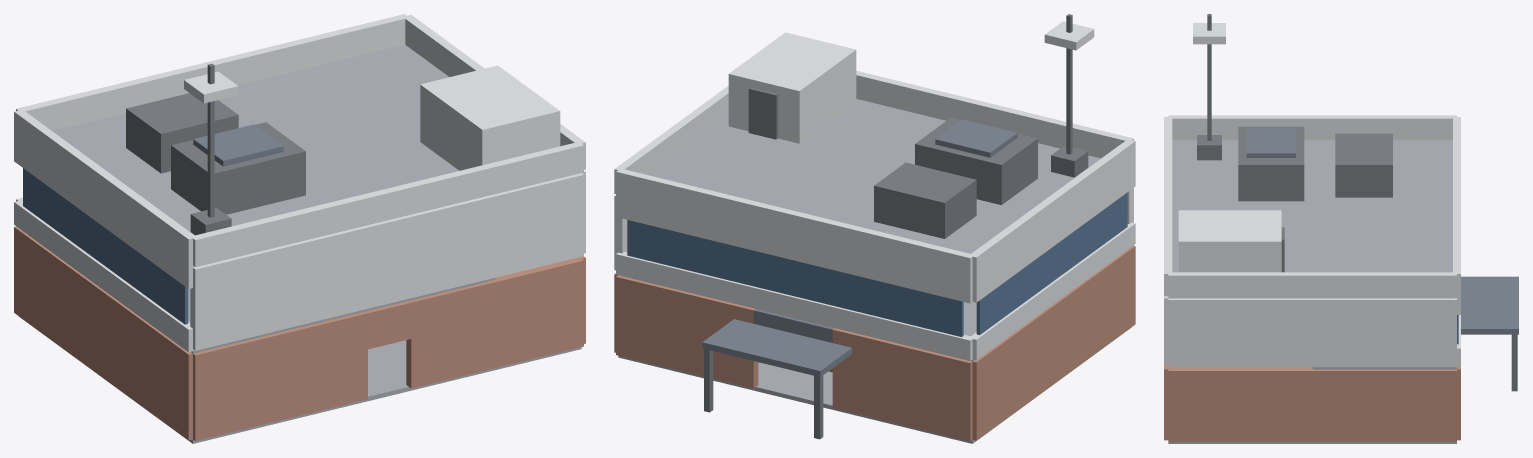
File: harbor_office_building.glb
3 views of the same model, side by side, from view 1: azimuth 30°, elevation 25°; view 2: azimuth 150°, elevation 25°; view 3: azimuth 270°, elevation 25° (orthographic). The views are drawn at different scales.
Visible parts, largest first — view 1: Off_2F_Rear_Wall, Off_Roof_Slab, Off_GF_Wall_Rear_R, Off_GF_Wall_Rear_L, Off_Roof_Parapet_Rear, Off_Roof_Doghouse_Body, Off_Roof_Parapet_Front, Off_Roof_HVAC_1, Off_GF_Wall_Left_A, Off_GF_Wall_Left_C, Off_Roof_Parapet_Left, Off_2F_Left_Windows (+12 smaller); view 2: Off_Roof_Slab, Off_2F_Front_Windows, Off_GF_Front_Wall_L, Off_Roof_Parapet_Front, Off_GF_Front_Wall_R, Off_Roof_Doghouse_Body, Off_2F_Front_Parapet, Off_2F_Front_Lintel, Off_Roof_Parapet_Rear, Off_Roof_HVAC_2, Off_GF_Wall_Left_C, Off_GF_Wall_Left_A (+18 smaller); view 3: Off_Roof_Slab, Off_GF_Wall_Right, Off_2F_Right_Wall, Off_Roof_Parapet_Right, Off_Roof_Doghouse_Body, Off_Roof_Parapet_Left, Off_Roof_HVAC_2, Off_Roof_HVAC_1, Off_Entrance_Canopy, Off_Roof_Parapet_Rear, Off_Roof_Fan_1, Off_Roof_Parapet_Front (+7 smaller).
Boxes of the visible parts, box(x1,y1,x2,y2) form: Off_2F_Rear_Wall: box(190, 173, 583, 350); Off_Roof_Slab: box(52, 45, 459, 235); Off_GF_Wall_Rear_R: box(406, 258, 583, 388); Off_GF_Wall_Rear_L: box(193, 311, 367, 441); Off_Roof_Parapet_Rear: box(191, 143, 583, 267); Off_Roof_Doghouse_Body: box(420, 65, 560, 170); Off_Roof_Parapet_Front: box(16, 14, 408, 130); Off_Roof_HVAC_1: box(171, 122, 305, 214); Off_GF_Wall_Left_A: box(114, 299, 192, 440); Off_GF_Wall_Left_C: box(14, 226, 90, 367); Off_Roof_Parapet_Left: box(14, 109, 196, 266); Off_2F_Left_Windows: box(23, 168, 188, 324); Off_Roof_Slab: box(649, 99, 1100, 253); Off_2F_Front_Windows: box(627, 220, 963, 336); Off_GF_Front_Wall_L: box(832, 328, 972, 441); Off_Roof_Parapet_Front: box(616, 168, 973, 282); Off_GF_Front_Wall_R: box(616, 275, 758, 388); Off_Roof_Doghouse_Body: box(728, 32, 856, 143); Off_2F_Front_Parapet: box(616, 252, 973, 360); Off_2F_Front_Lintel: box(616, 196, 972, 303); Off_Roof_Parapet_Rear: box(856, 70, 1133, 158); Off_Roof_HVAC_2: box(874, 162, 976, 238); Off_GF_Wall_Left_C: box(972, 312, 1044, 440); Off_GF_Wall_Left_A: box(1065, 245, 1135, 373); Off_Roof_Slab: box(1168, 140, 1452, 298); Off_GF_Wall_Right: box(1168, 367, 1456, 441); Off_2F_Right_Wall: box(1168, 298, 1456, 367); Off_Roof_Parapet_Right: box(1168, 272, 1456, 297); Off_Roof_Doghouse_Body: box(1178, 210, 1281, 272); Off_Roof_Parapet_Left: box(1168, 115, 1456, 140); Off_Roof_HVAC_2: box(1335, 133, 1392, 197); Off_Roof_HVAC_1: box(1238, 126, 1304, 201); Off_Entrance_Canopy: box(1461, 276, 1518, 334); Off_Roof_Parapet_Rear: box(1164, 117, 1172, 296); Off_Roof_Fan_1: box(1246, 128, 1295, 157); Off_Roof_Parapet_Front: box(1453, 117, 1460, 296).
Bounding box in the file's own units: 18.4 × 15.5 × 17.2.
